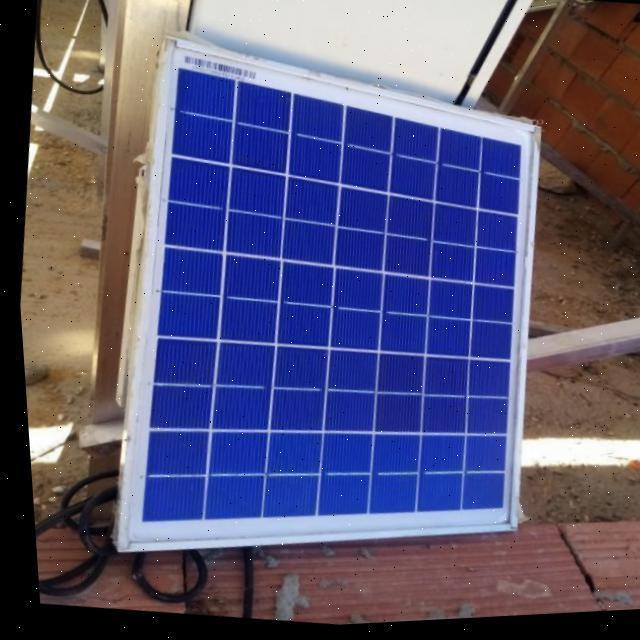Normal Solar Panel: (89, 25, 565, 598)
